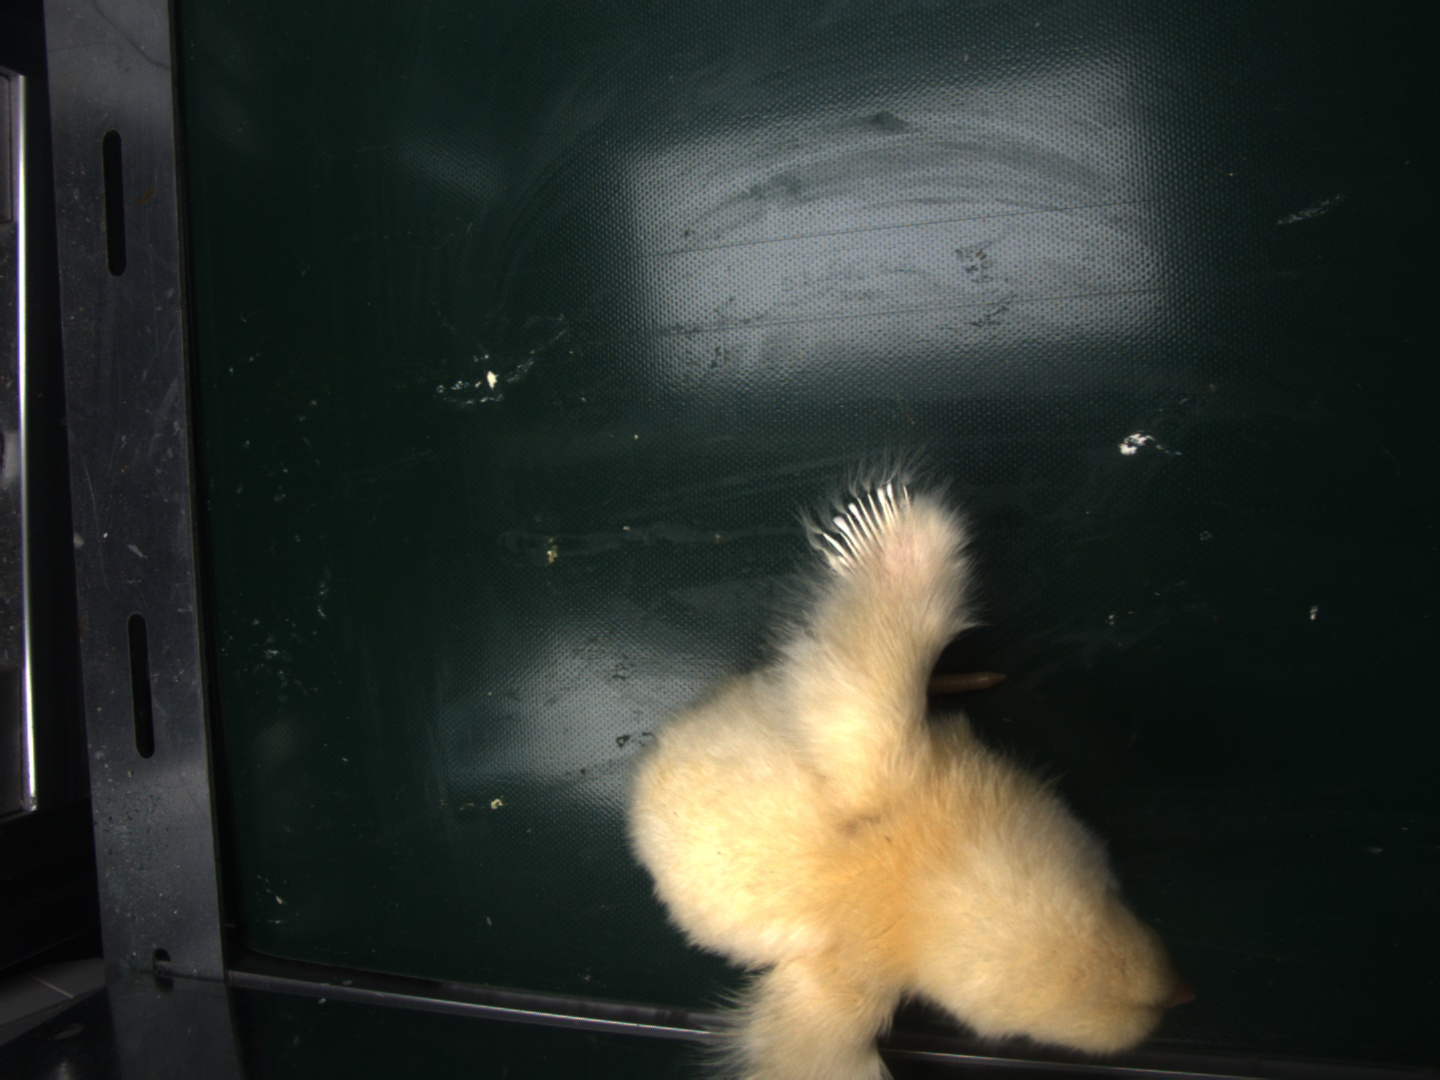male: (827, 489, 910, 571)
